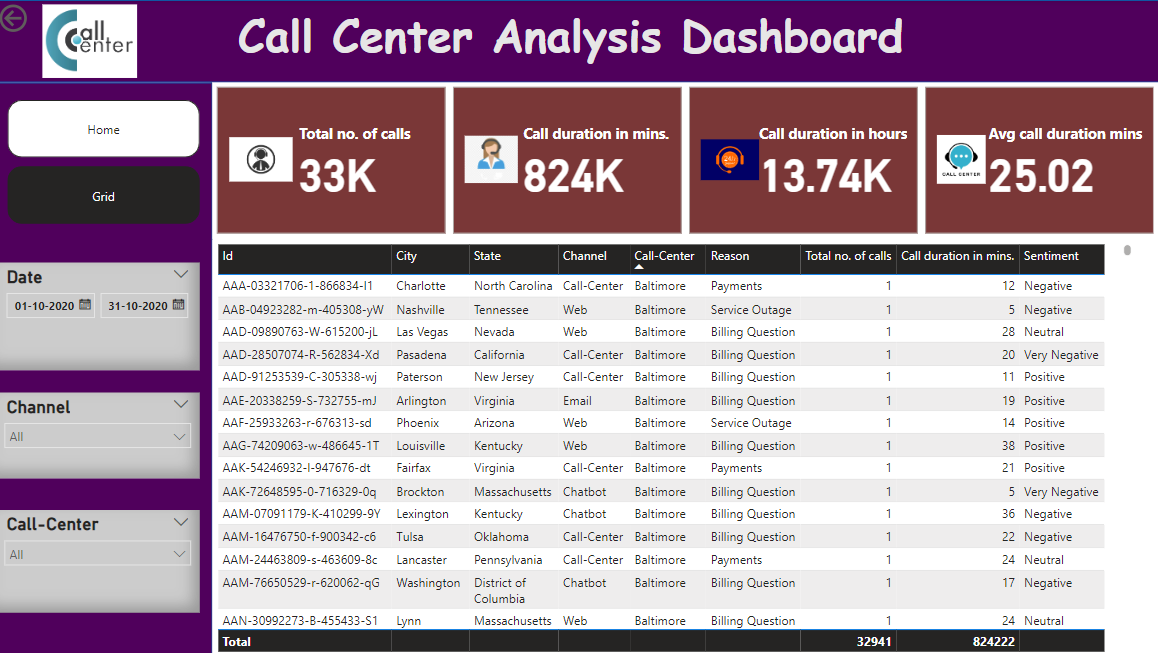

Layout of this report page (visuals, bound fields, positions):
{"tool":"powerbi","page":{"name":"Grid","canvas":[1280,720],"ordinal":1},"visuals":[{"type":"shape","box":[0,0,1280.3,90.6],"z":0},{"type":"textbox","box":[0,0,1263.8,91.9],"z":1000},{"type":"shape","box":[0,90.6,238.8,629.8],"z":2000},{"type":"cardVisual","fields":{"Data":["Call Center.Total no. of calls","Call Center.Call Duration in mins.","Call Center.Call duration in hours","Call Center.Avg call duration in mins"]},"box":[238.8,90.6,1041.5,171.5],"z":3000},{"type":"image","box":[0,0,208.6,90.6],"z":4000},{"type":"pageNavigator","box":[13.7,109.8,211.3,137.2],"z":5000},{"type":"slicer","fields":{"Values":["Call Center.Call Timestamp"]},"box":[0,288.2,225,118],"z":6000},{"type":"slicer","fields":{"Values":["Call Center.Channel"]},"box":[0,430.9,225,94.7],"z":7000},{"type":"slicer","fields":{"Values":["Call Center.Call-Centres City"]},"box":[0,559.9,225,112.5],"z":8000},{"type":"tableEx","fields":{"Values":["Call Center.Id","Call Center.City","Call Center.State","Call Center.Channel","Call Center.Call-Centres City","Call Center.Reason","Call Center.Total no. of calls","Call Center.Call Duration in mins.","Call Center.Sentiment"]},"box":[238.8,263.5,1014.1,456.9],"z":9000},{"type":"actionButton","box":[0,0,100,40],"z":10000}]}

Visuals, with their boxes on the page's 1280x720 design canvas (x1, y1, x2, y2). These are canvas units, not pixel positions in the 1158x653 screenshot, which may show the page scaled, cropped or inside an application window:
shape: box=[0, 0, 1280, 91]
textbox: box=[0, 0, 1264, 92]
shape: box=[0, 91, 239, 720]
cardVisual - Call Center.Total no. of calls x Call Center.Call Duration in mins.: box=[239, 91, 1280, 262]
image: box=[0, 0, 209, 91]
pageNavigator: box=[14, 110, 225, 247]
slicer - Call Center.Call Timestamp: box=[0, 288, 225, 406]
slicer - Call Center.Channel: box=[0, 431, 225, 526]
slicer - Call Center.Call-Centres City: box=[0, 560, 225, 672]
tableEx - Call Center.Id x Call Center.City: box=[239, 264, 1253, 720]
actionButton: box=[0, 0, 100, 40]
